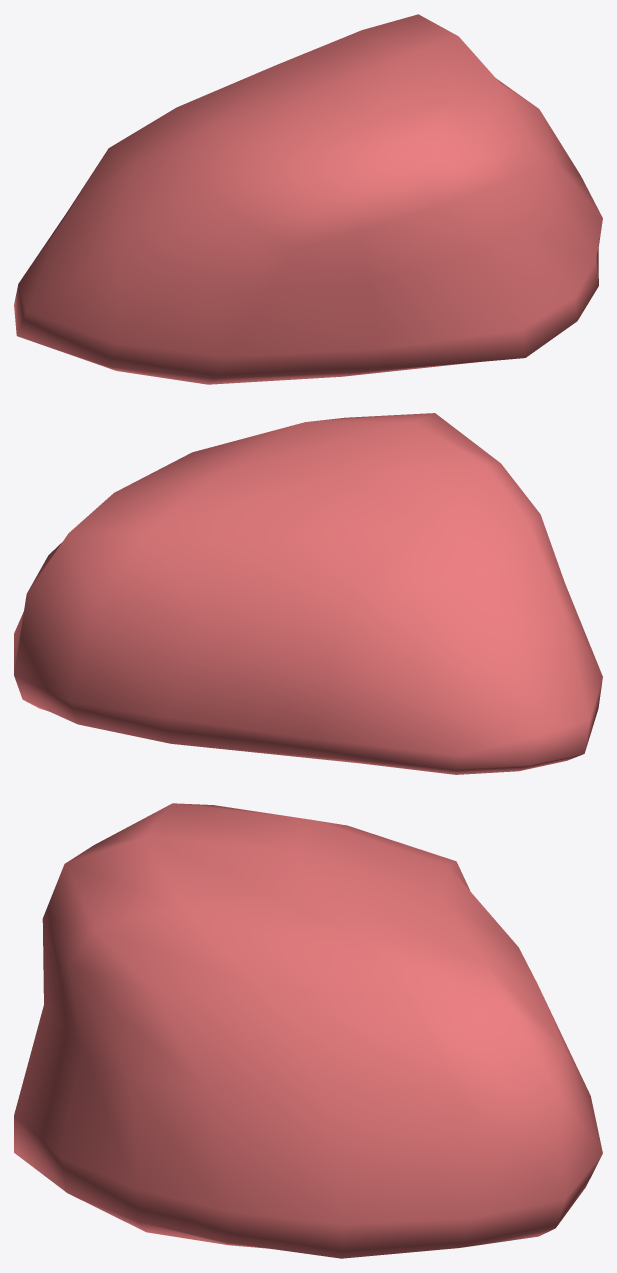
The model's file is Food_Meat.fbx.
The picture shows the model from 3 angles, top to bottom: view 1: azimuth 30°, elevation 25°; view 2: azimuth 150°, elevation 25°; view 3: azimuth 270°, elevation 25°; orthographic projection. The views are drawn at different scales.
Visible parts, largest first — view 1: MeatChunk; view 2: MeatChunk; view 3: MeatChunk.
Boxes of the visible parts, left/top/right/bottom form: MeatChunk: left=14, top=14, right=602, bottom=384; MeatChunk: left=14, top=413, right=602, bottom=774; MeatChunk: left=14, top=803, right=602, bottom=1258.
Bounding box in the file's own units: 13.18 × 5.16 × 10.09.
